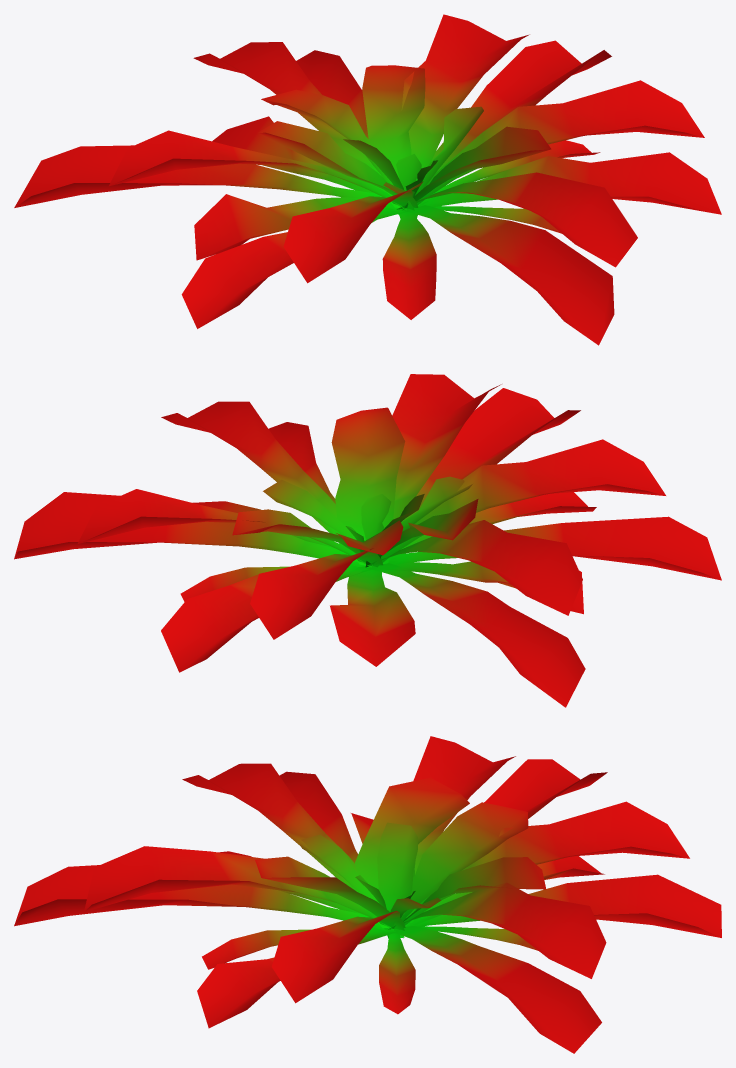
Rendered from Var9_LOD0.fbx.
3 renders of one model, top to bottom at view 1: azimuth 30°, elevation 25°; view 2: azimuth 150°, elevation 25°; view 3: azimuth 270°, elevation 25°, orthographic.
Parts seen in each view (by area): view 1: _jh7p_Var9_LOD0; view 2: _jh7p_Var9_LOD0; view 3: _jh7p_Var9_LOD0.
Part boxes in pixels (<box>): _jh7p_Var9_LOD0: <box>14,14,721,345</box>; _jh7p_Var9_LOD0: <box>14,374,721,707</box>; _jh7p_Var9_LOD0: <box>14,736,721,1053</box>.
Size of the model in its own units: 34.53 by 5.79 by 37.11.
